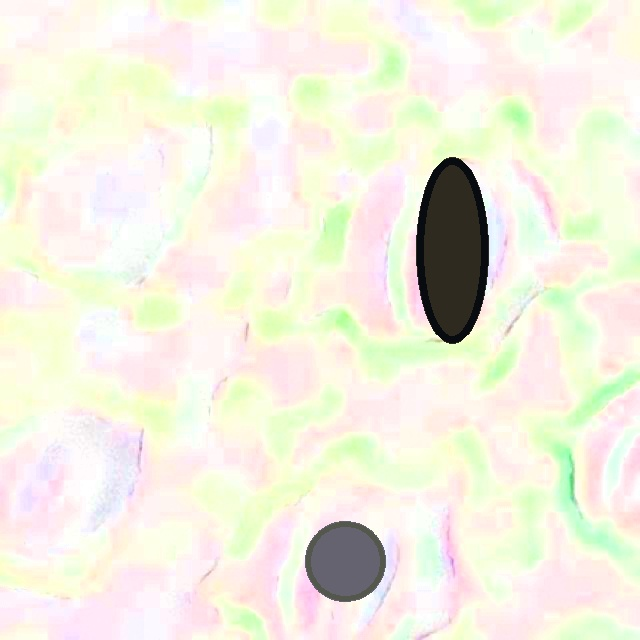open: (417, 157, 488, 343), (304, 521, 386, 601)
